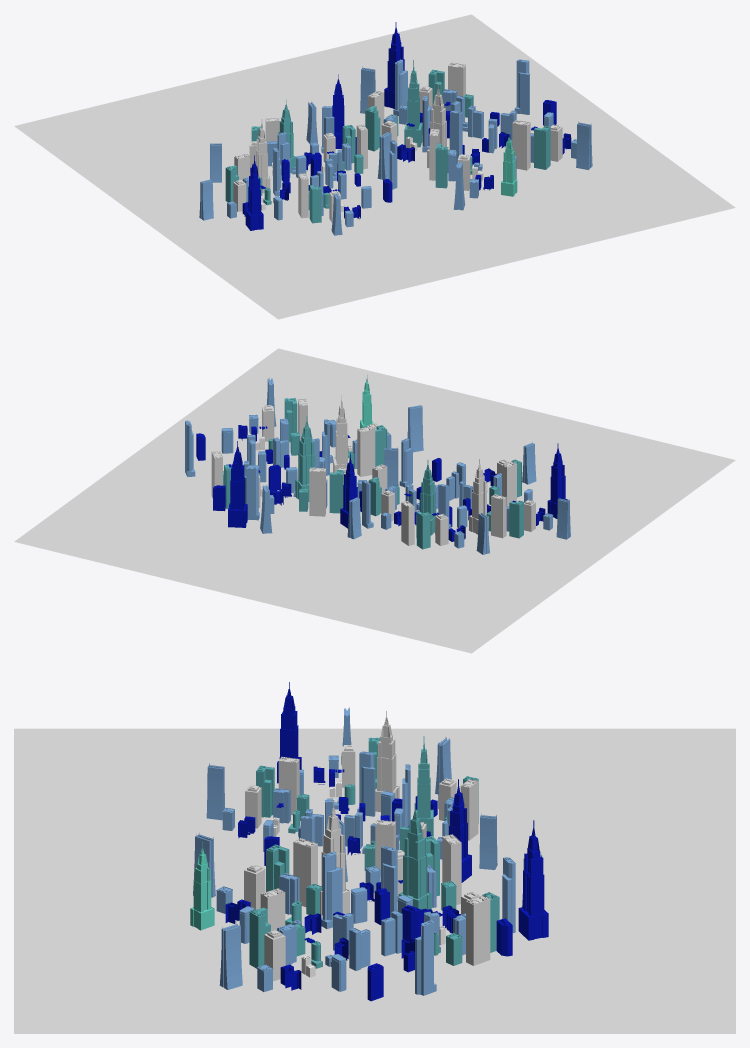
Rendered from we1bac.fbx.
The picture shows the model from 3 angles, top to bottom: view 1: azimuth 30°, elevation 25°; view 2: azimuth 150°, elevation 25°; view 3: azimuth 270°, elevation 25°; orthographic projection. The views are drawn at different scales.
Parts seen in each view (by area): view 1: 平面.001, 立方体.187, 立方体.069, 立方体.155, 立方体.130, 立方体.173, 立方体.146, 立方体.168, 立方体.153, 立方体.149, 立方体.107, 立方体.088 (+9 smaller); view 2: 平面.001, 立方体.130, 立方体.187, 立方体.193, 立方体.069, 立方体.136, 立方体.088, 立方体.149, 立方体.024, 立方体.135, 立方体.184, 立方体.107 (+11 smaller); view 3: 平面.001, 立方体.130, 立方体.187, 立方体.174, 立方体.168, 立方体.088, 立方体.154, 立方体.173, 立方体.146, 立方体.149, 立方体.193, 立方体.069 (+28 smaller).
Boxes of the visible parts, x1,y1,x2,y2 form: 平面.001: [14, 14, 735, 319]; 立方体.187: [404, 60, 422, 147]; 立方体.069: [245, 155, 263, 230]; 立方体.155: [512, 120, 530, 170]; 立方体.130: [384, 22, 404, 108]; 立方体.173: [514, 59, 529, 114]; 立方体.146: [576, 121, 592, 169]; 立方体.168: [501, 133, 517, 196]; 立方体.153: [534, 126, 550, 169]; 立方体.149: [427, 83, 449, 167]; 立方体.107: [332, 74, 344, 148]; 立方体.088: [256, 119, 270, 193]; 平面.001: [14, 348, 735, 653]; 立方体.130: [228, 441, 247, 527]; 立方体.187: [295, 415, 315, 501]; 立方体.193: [357, 426, 375, 476]; 立方体.069: [547, 443, 567, 518]; 立方体.136: [309, 467, 325, 516]; 立方体.088: [469, 459, 488, 534]; 立方体.149: [333, 395, 349, 472]; 立方体.024: [420, 460, 436, 535]; 立方体.135: [244, 466, 259, 520]; 立方体.184: [407, 405, 423, 452]; 立方体.107: [340, 453, 357, 528]; 平面.001: [14, 728, 735, 1033]; 立方体.130: [518, 820, 548, 940]; 立方体.187: [398, 803, 431, 909]; 立方体.174: [466, 895, 490, 965]; 立方体.168: [190, 842, 214, 930]; 立方体.088: [375, 710, 399, 812]; 立方体.154: [321, 851, 342, 928]; 立方体.173: [415, 919, 436, 995]; 立方体.146: [219, 922, 242, 989]; 立方体.149: [320, 799, 349, 914]; 立方体.193: [293, 838, 317, 906]; 立方体.069: [277, 682, 301, 783].
Size of the model in its own units: 1793 by 326 by 1793.
